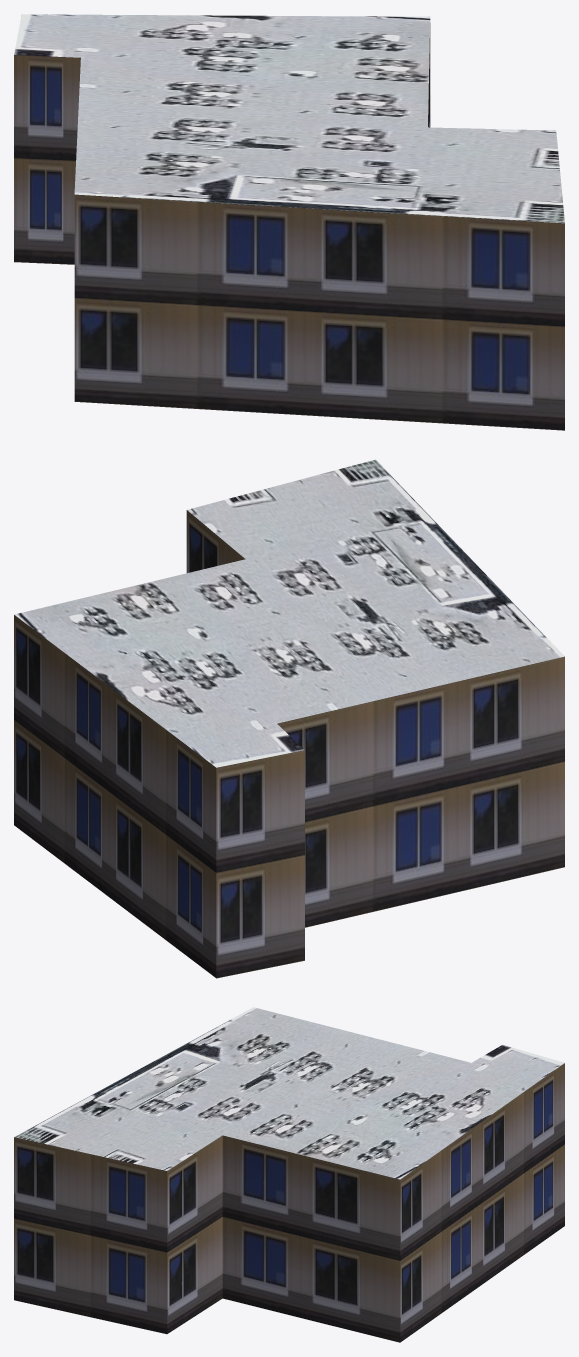
The model's file is ResTex__2408.fbx.
3 renders of one model, top to bottom at view 1: azimuth 30°, elevation 25°; view 2: azimuth 150°, elevation 25°; view 3: azimuth 270°, elevation 25°, orthographic. The views are drawn at different scales.
Parts seen in each view (by area): view 1: CityEngineMaterial_5_m, CityEngineMaterial_4_m; view 2: CityEngineMaterial_5_m, CityEngineMaterial_4_m; view 3: CityEngineMaterial_5_m, CityEngineMaterial_4_m.
Part boxes in pixels (x1=…): CityEngineMaterial_5_m: x1=14, y1=23, x2=564, y2=430; CityEngineMaterial_4_m: x1=14, y1=14, x2=564, y2=223; CityEngineMaterial_5_m: x1=14, y1=510, x2=564, y2=978; CityEngineMaterial_4_m: x1=14, y1=459, x2=564, y2=767; CityEngineMaterial_5_m: x1=14, y1=1063, x2=564, y2=1342; CityEngineMaterial_4_m: x1=14, y1=1007, x2=564, y2=1179.
Bounding box in the file's own units: 13.6 × 6 × 18.37.
Materials: 2 (2 with a texture image).
